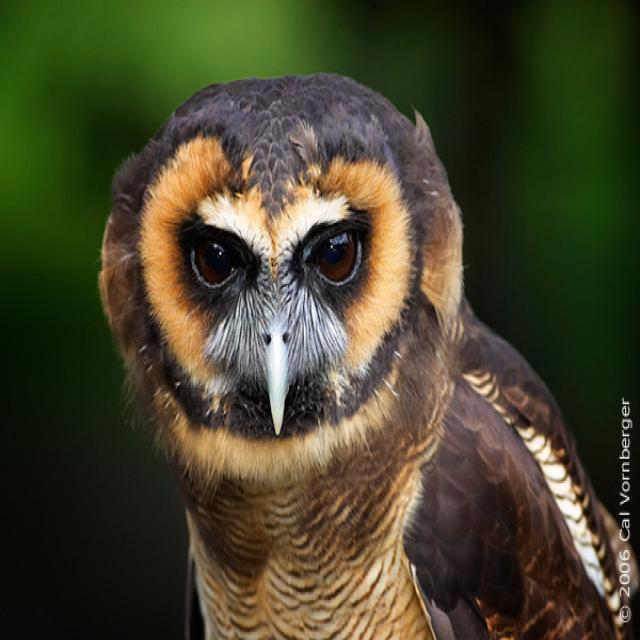strigidae: (74, 70, 486, 576)
